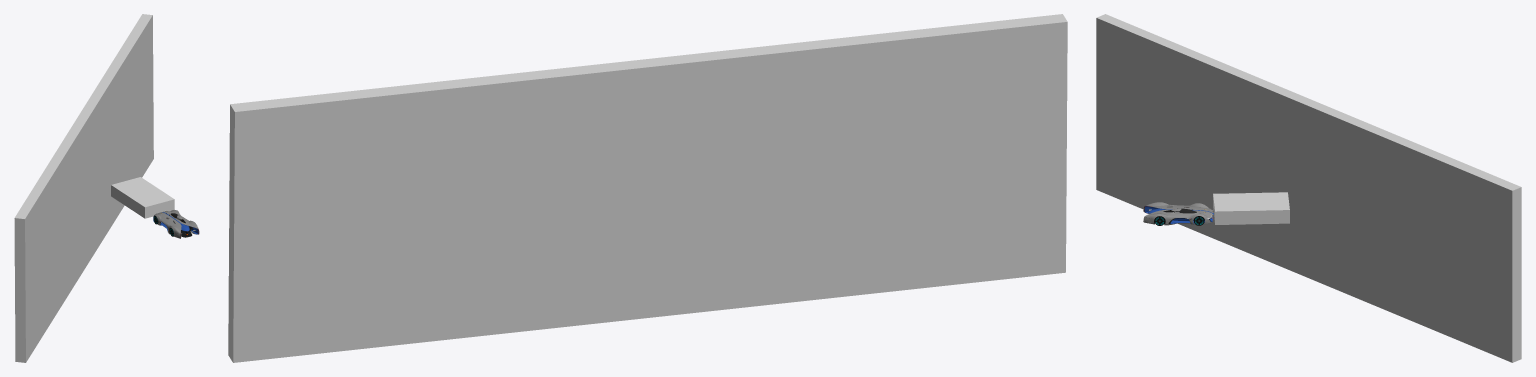
File: SmartCar_Concept_AI_1.fbx
3 views of the same model, side by side, from view 1: azimuth 30°, elevation 25°; view 2: azimuth 150°, elevation 25°; view 3: azimuth 270°, elevation 25° (orthographic). The views are drawn at different scales.
Visible parts, largest first — view 1: Trigger, front_detector, Body; view 2: Trigger; view 3: Trigger, front_detector, Body.
Part boxes in pixels (x1,y1,x2,y2): Trigger: (14,14,153,362); front_detector: (111,177,174,218); Body: (153,209,199,238); Trigger: (228,14,1067,362); Trigger: (1096,14,1521,362); front_detector: (1213,192,1289,224); Body: (1143,202,1213,225).
Size of what is drawn, in the model's own units: 2846 by 1284 by 2837.
